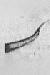F16: (5, 1, 45, 75)
